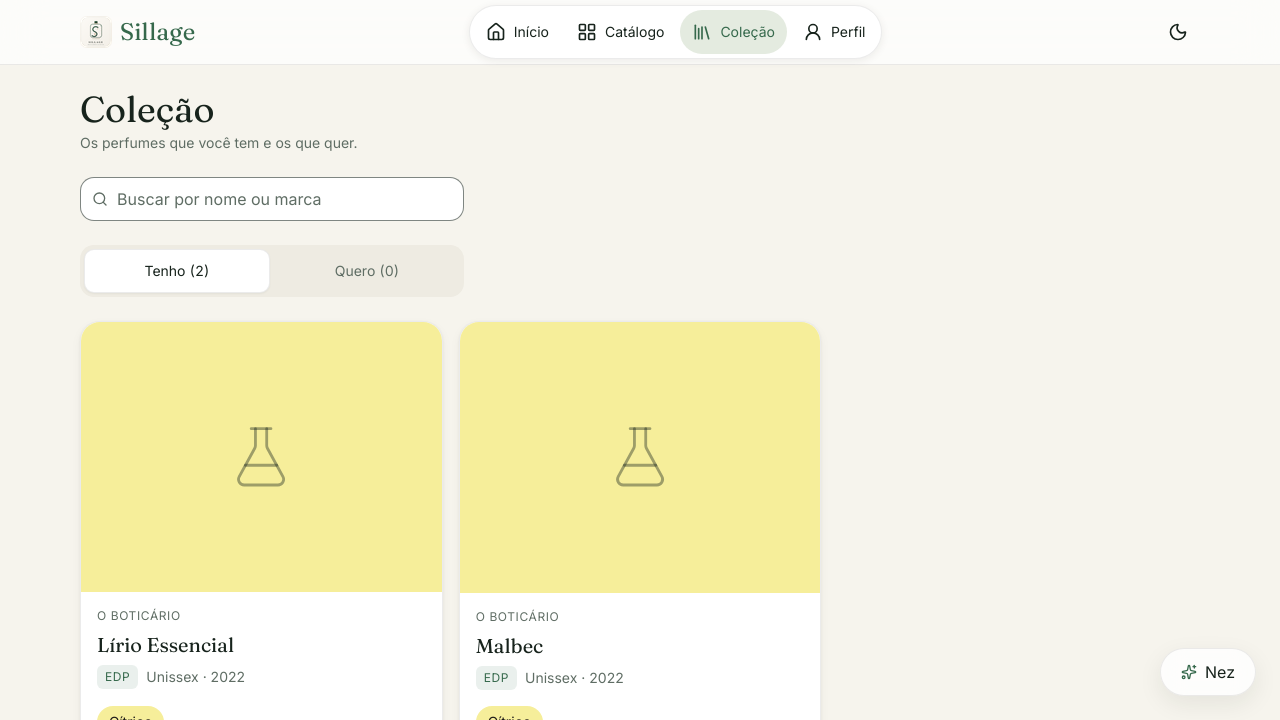
CollectionPage › busca por nome ou marca, sem acento, e limpa pelo estado sem resultado
The width and height of the screenshot is (1280, 720).
Type "lirio" into the search field named "Buscar na coleção por nome ou marca". click: (272, 199)
box: [80, 177, 464, 221]
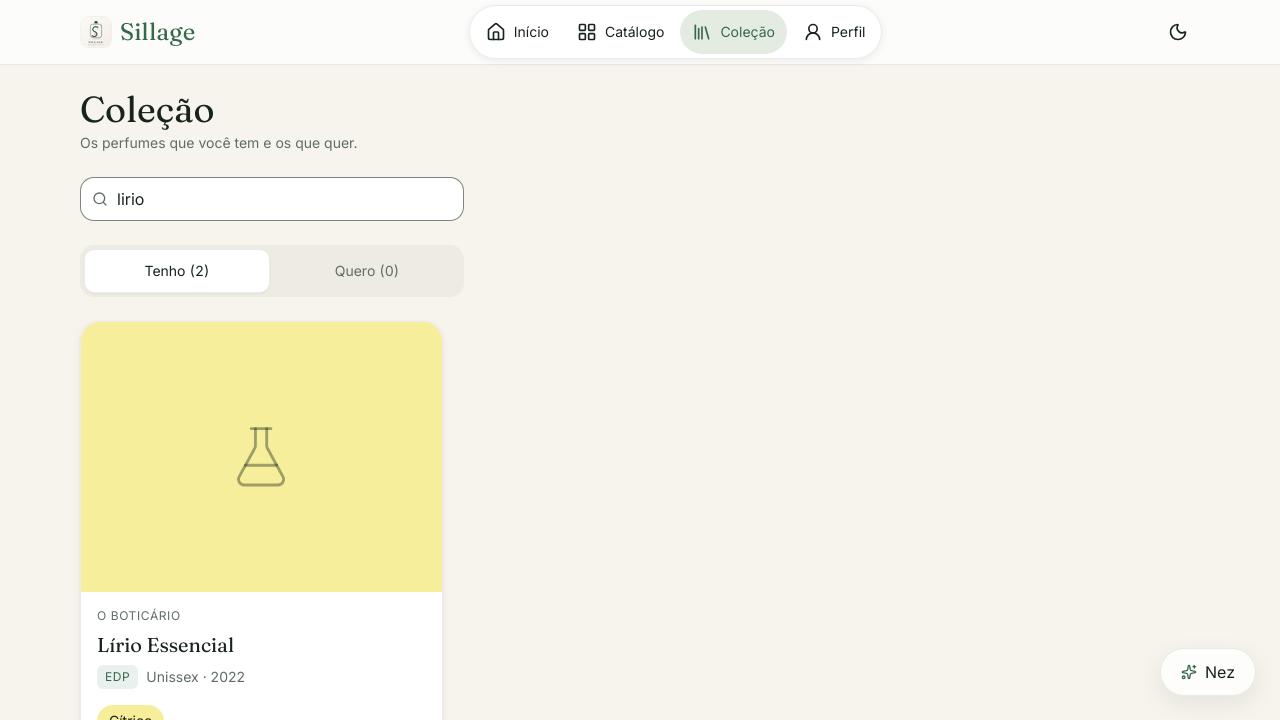
Expected: the heading "Lírio Essencial" is shown, [97, 632, 234, 658]
Expected: the link "Malbec" is gone
Replace the text in the search field named "Buscar na coleção por nome ou marca" with "zzz". click: (272, 199)
box: [80, 177, 464, 221]
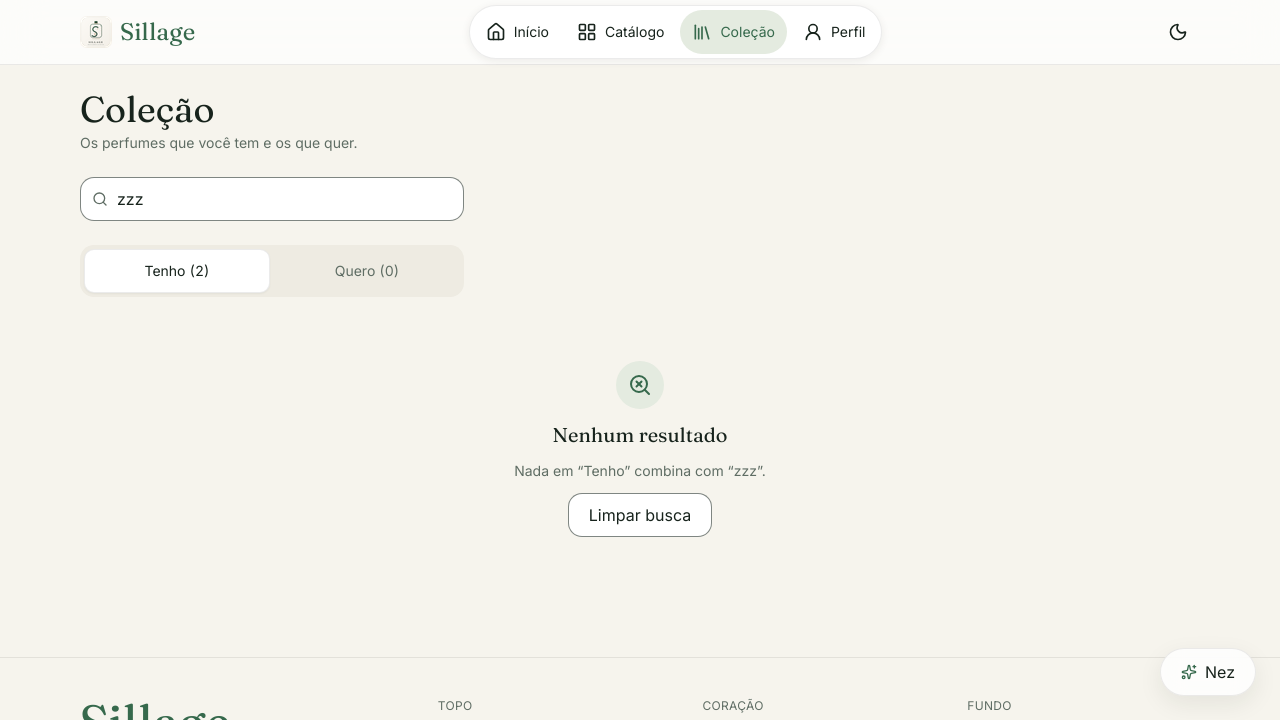
Expected: the heading "Nenhum resultado" is shown, [552, 421, 728, 449]
Click the button "Limpar busca". click: (640, 515)
box: [568, 493, 712, 537]
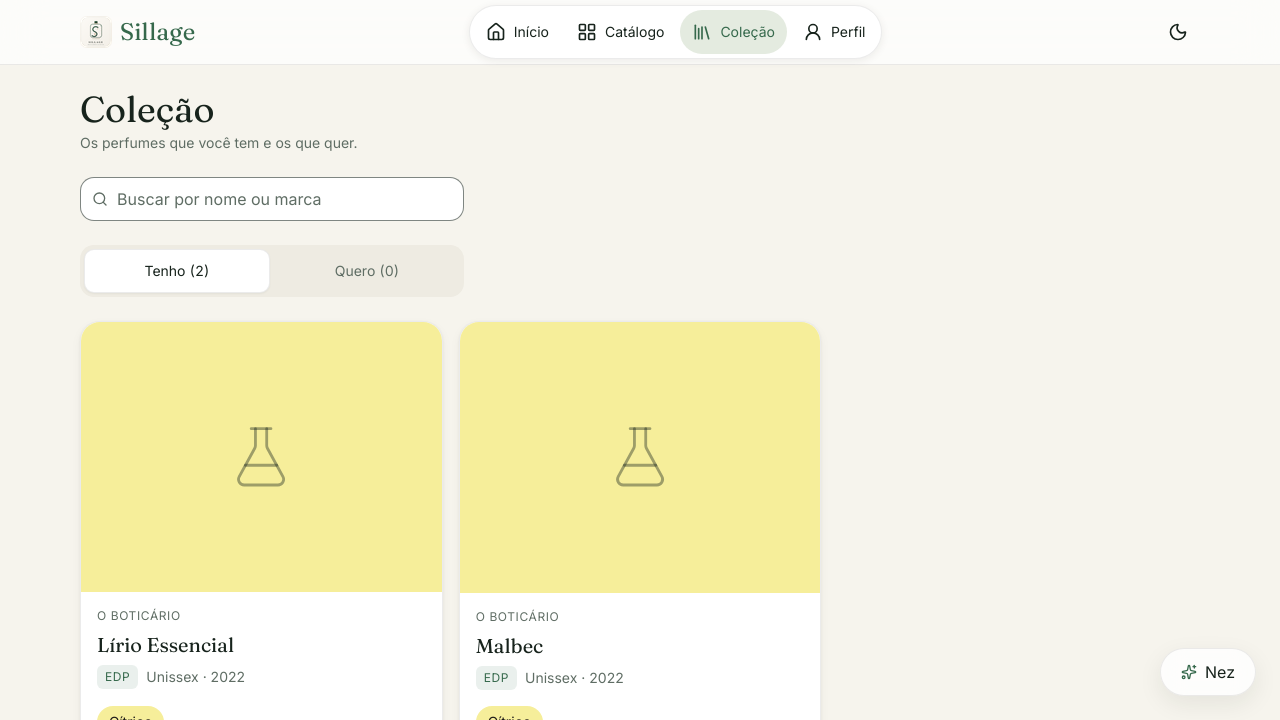
Expected: the search field named "Buscar na coleção por nome ou marca" is empty, [80, 177, 464, 221]
Expected: the heading "Malbec" is shown, [476, 632, 543, 658]
